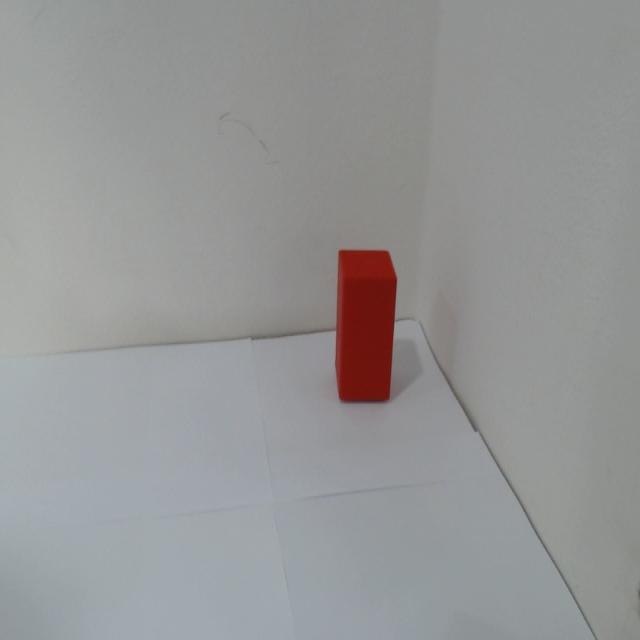cube: (333, 249, 400, 403)
